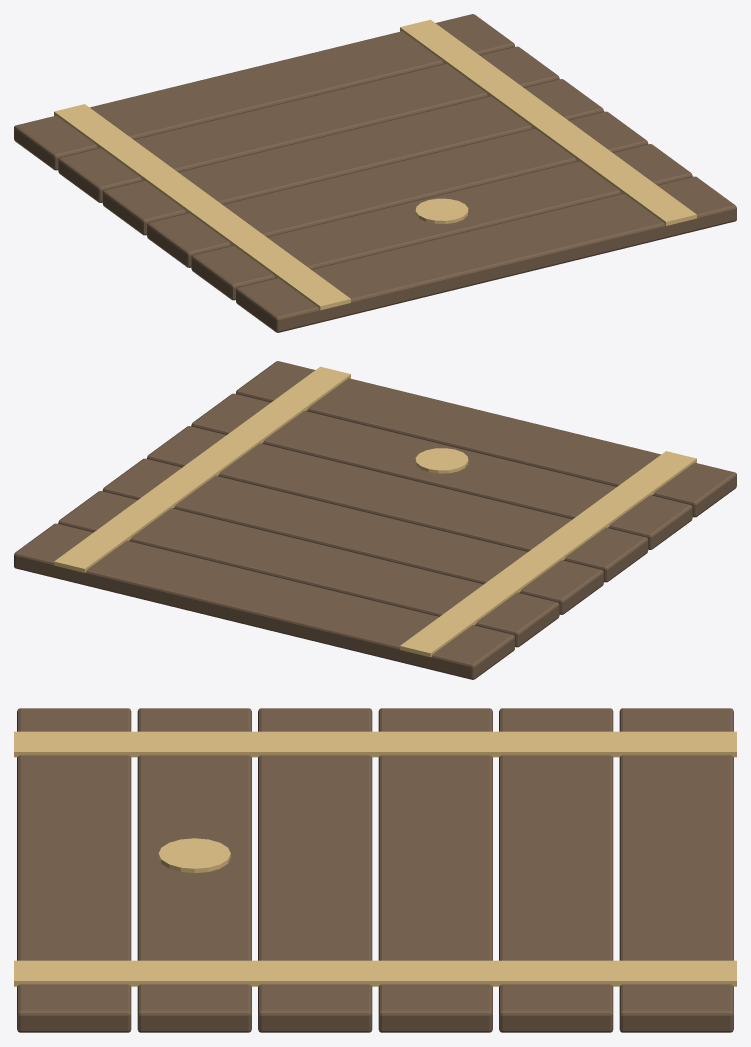
The model's file is Hatch.glb.
3 renders of one model, top to bottom at view 1: azimuth 30°, elevation 25°; view 2: azimuth 150°, elevation 25°; view 3: azimuth 270°, elevation 25°, orthographic. The views are drawn at different scales.
Parts seen in each view (by area): view 1: Hatch; view 2: Hatch; view 3: Hatch.
Boxes of the visible parts, left/top/right/bottom form: Hatch: left=14, top=14, right=736, bottom=332; Hatch: left=14, top=361, right=736, bottom=679; Hatch: left=14, top=708, right=736, bottom=1032.
Bounding box in the file's own units: 1.2 × 0.051 × 1.2.
